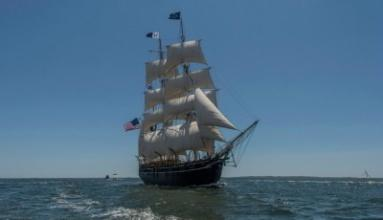fanchuan: (127, 11, 257, 189)
